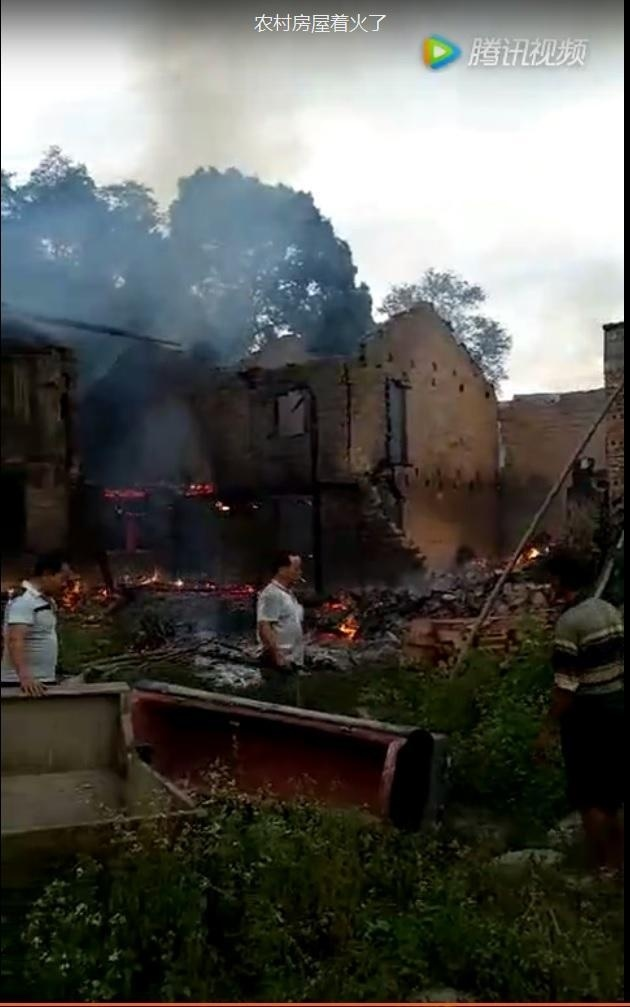fire: (326, 598, 362, 641)
